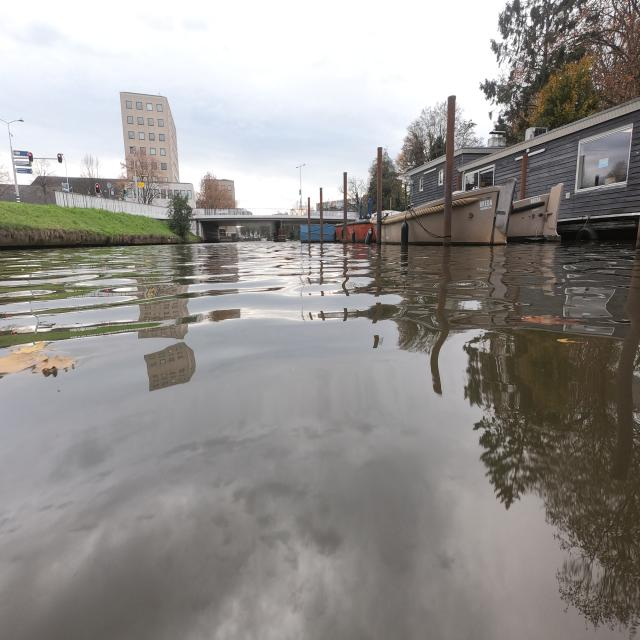boat: (381, 186, 506, 244), (346, 215, 377, 243), (323, 220, 335, 242), (309, 223, 320, 242), (300, 224, 309, 243), (335, 223, 345, 240)
dock: (0, 228, 180, 247)
grass: (0, 201, 172, 235)
sky: (6, 4, 490, 204)
tree: (490, 4, 638, 128)
water: (0, 241, 640, 640)
